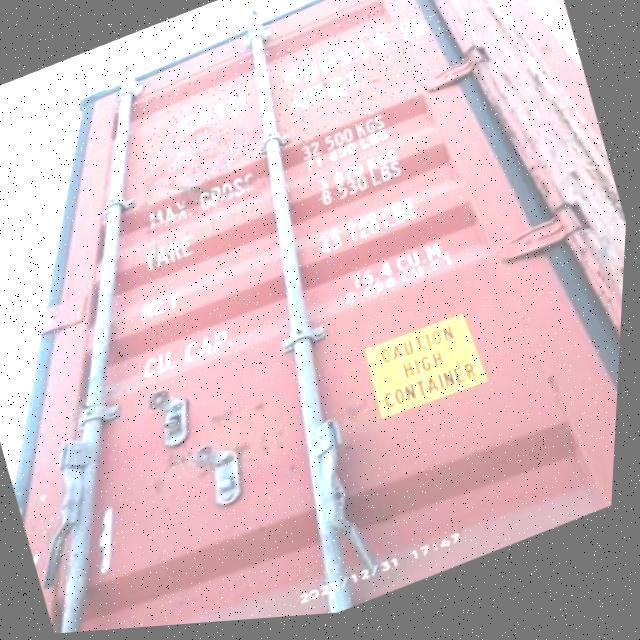container_number_h: (130, 0, 461, 203)
